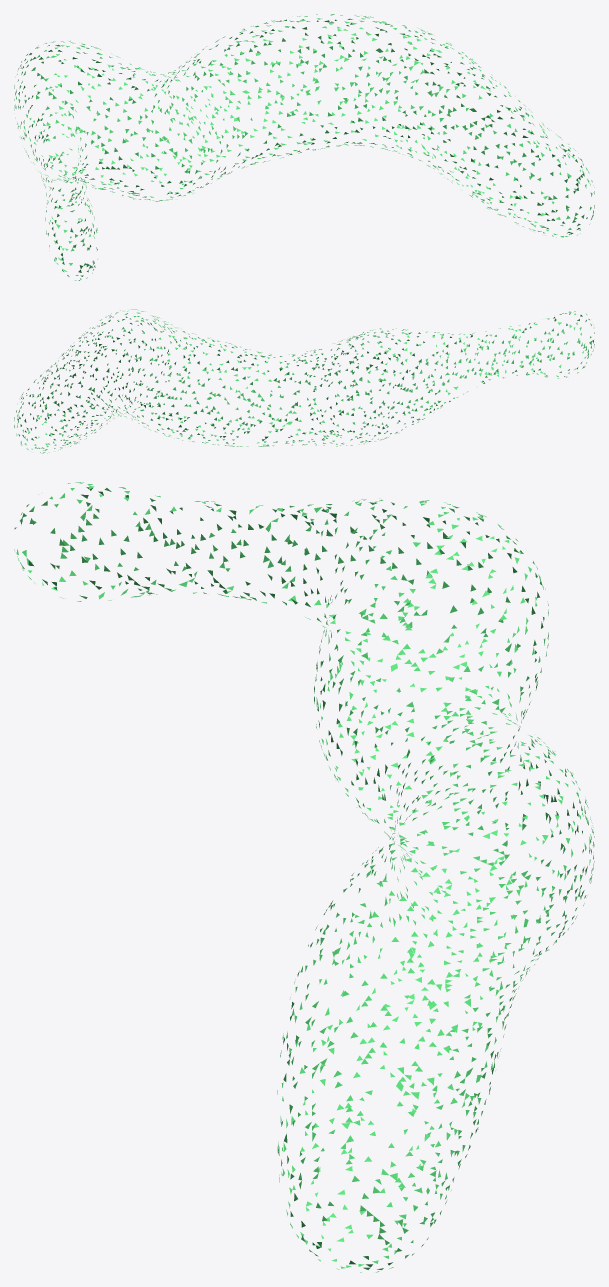
File: morph_020.glb
3 renders of one model, top to bottom at view 1: azimuth 30°, elevation 25°; view 2: azimuth 150°, elevation 25°; view 3: azimuth 270°, elevation 25°, orthographic. The views are drawn at different scales.
Bounding box in the file's own units: 103 × 44.44 × 56.14.
